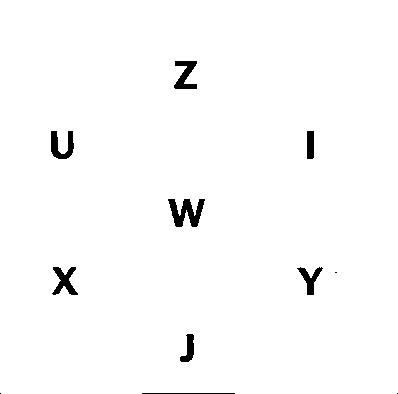I: (299, 124, 322, 168)
U: (47, 127, 78, 163)
